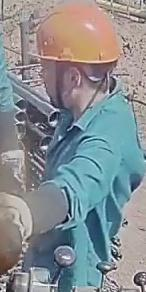gloves: (0, 191, 52, 276), (0, 140, 29, 192)
helmet: (26, 0, 122, 64)
vest: (21, 83, 144, 291)
